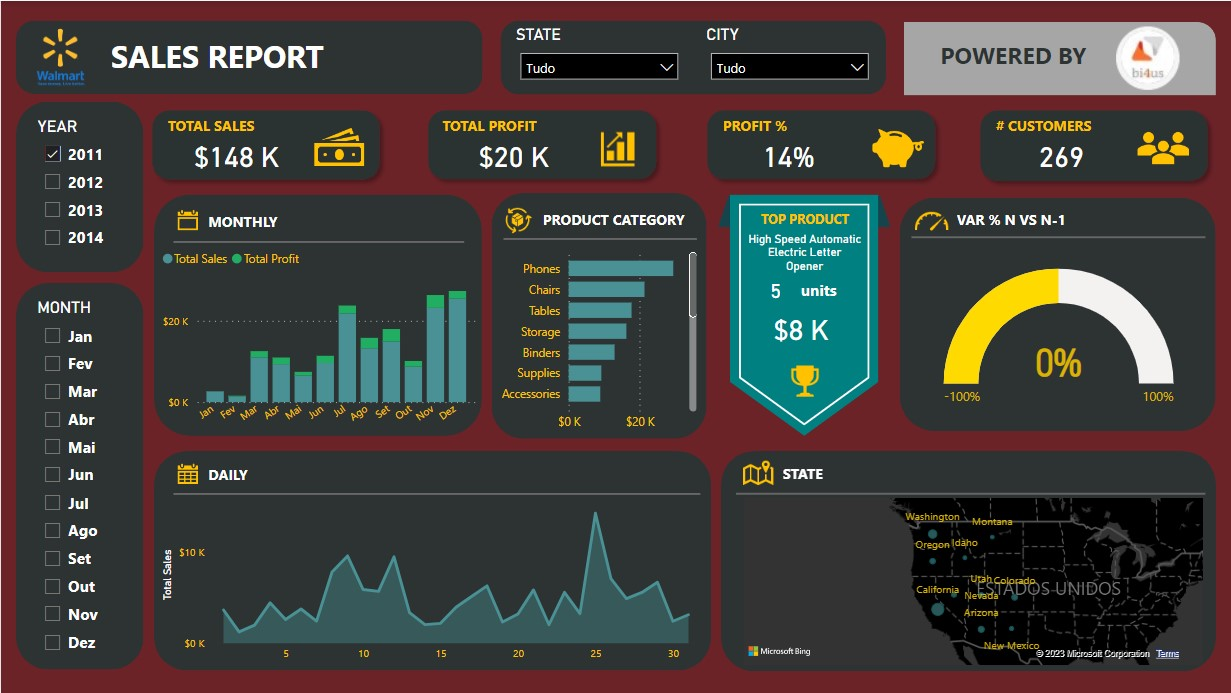

The page's visual inventory and layout, read from the dashboard file:
{"tool":"powerbi","page":{"name":"Sales Report","canvas":[1280,720],"ordinal":0},"visuals":[{"type":"shape","box":[511,199.6,224,256],"z":0},{"type":"shape","box":[746.9,203,179.6,32.4],"z":0,"group":"g4"},{"type":"group","id":"g1","title":"Grupo 4","box":[935.8,204.9,329.3,243.3],"z":0,"group":"g5"},{"type":"shape","box":[935.8,204.9,329.3,243.3],"z":0,"group":"g1"},{"type":"shape","box":[15.6,20.3,485.7,76.5],"z":1000,"group":"g7"},{"type":"shape","box":[939.5,21.8,324.9,76.5],"z":1000,"group":"g10"},{"type":"shape","box":[159.8,201.3,341.4,251.4],"z":1000},{"type":"shape","box":[759.4,201.5,154.6,251.5],"z":1000,"group":"g4"},{"type":"shape","box":[148.4,104.6,255,90.6],"z":2000,"group":"g9"},{"type":"shape","box":[768.8,210.8,135.9,231.1],"z":2000,"group":"g4"},{"type":"shape","box":[179.8,228.5,302.9,45.7],"z":2000},{"type":"shape","box":[520.5,20.3,401.4,77.1],"z":3000,"group":"g3"},{"type":"shape","box":[15.7,105,132.8,178],"z":3000,"group":"g6"},{"type":"shape","box":[436.3,105,255.6,90],"z":3000,"group":"g8"},{"type":"textbox","box":[745.4,212.3,184.3,38.6],"z":3000,"group":"g4"},{"type":"shape","box":[523.8,225.3,201.4,45.7],"z":3000},{"type":"card","fields":{"Values":["tbl_Medidas.Total Quantity"]},"box":[775.4,285.8,62.5,30.9],"z":4000,"group":"g4"},{"type":"shape","box":[159.8,468.4,580,228.6],"z":4000},{"type":"card","fields":{"Values":["Min(tbl_Orders.Product Name)"]},"box":[768.8,229.3,135.9,64.8],"z":5000,"group":"g4"},{"type":"shape","box":[179.8,489.9,548.6,45.7],"z":5000},{"type":"columnChart","fields":{"Category":["tbl_Calendario.Mês"],"Y":["tbl_Medidas.Total Sales","tbl_Medidas.Total Profit"]},"box":[162.1,247.9,336,200],"z":6000},{"type":"textbox","box":[828.2,284.3,64,34.4],"z":6000,"group":"g4"},{"type":"shape","box":[15,294.6,132.9,402.5],"z":6000,"group":"g6"},{"type":"image","box":[1155,17.5,76.5,84.3],"z":7000,"group":"g10"},{"type":"image","box":[170.1,207.9,48,40],"z":7000},{"type":"card","fields":{"Values":["tbl_Medidas.Total Sales"]},"box":[740.7,320.3,184.3,40.1],"z":7000,"group":"g4"},{"type":"shape","box":[725.5,105,255.6,90],"z":8000,"group":"g2"},{"type":"shape","box":[1011,105,255,91.9],"z":8000,"group":"g11"},{"type":"textbox","box":[210.1,213.9,216,32],"z":8000},{"type":"image","box":[812.5,360.4,50,69.4],"z":8000,"group":"g4"},{"type":"clusteredBarChart","fields":{"Y":["tbl_Medidas.Total Sales"],"Category":["tbl_Produto.Category"]},"box":[510.7,248.3,218.7,207.7],"z":9000},{"type":"textbox","box":[168.4,113.7,215.3,73.9],"z":10000,"group":"g9"},{"type":"image","box":[513,200.6,50,56],"z":10000},{"type":"card","fields":{"Values":["tbl_Medidas.Total Sales"]},"box":[169.8,131.2,148.9,57.8],"z":11000,"group":"g9"},{"type":"textbox","box":[559.1,212.4,167.1,32.8],"z":11000},{"type":"textbox","box":[455.3,114,215.8,73.4],"z":12000,"group":"g8"},{"type":"areaChart","fields":{"Category":["tbl_Calendario.Dia"],"Y":["tbl_Medidas.Total Sales"]},"box":[162.1,511.9,568,184],"z":12000},{"type":"image","box":[15.6,20.3,93,76.5],"z":13000,"group":"g7"},{"type":"card","fields":{"Values":["tbl_Medidas.Total Profit"]},"box":[457.8,131.6,151.8,57.8],"z":13000,"group":"g8"},{"type":"image","box":[170.1,471.9,48,40],"z":13000},{"type":"image","box":[318.3,117.2,66.8,71.7],"z":14000,"group":"g9"},{"type":"slicer","title":"YEAR","fields":{"Values":["tbl_Calendario.Ano"]},"box":[32.3,121.3,98.2,154.1],"z":14000,"group":"g6"},{"type":"textbox","box":[210.1,477.9,216,32],"z":14000},{"type":"group","id":"g2","title":"Grupo 1","box":[725.5,105,255.1,90.7],"z":15000},{"type":"image","box":[613.2,119.4,59.3,71.3],"z":15000,"group":"g8"},{"type":"slicer","title":"MONTH","fields":{"Values":["tbl_Calendario.Mês"]},"box":[32.3,310.1,88.6,394.8],"z":15000,"group":"g6"},{"type":"group","id":"g3","title":"Grupo 2","box":[520.5,20.3,401.4,77.1],"z":16000},{"type":"group","id":"g4","title":"Grupo 3","box":[740.7,201.5,189,251.5],"z":17000},{"type":"group","id":"g5","title":"Grupo 5","box":[935.8,204.9,329.3,243.3],"z":18000},{"type":"shape","box":[750.2,468.5,515.4,229.6],"z":19000},{"type":"textbox","box":[972.3,34.3,240.5,54.7],"z":20000,"group":"g10"},{"type":"map","title":"STATE","fields":{"Size":["Sum(tblf_Orders.Sales)"],"Category":["tbl_Local.State","tbl_Local.City"]},"box":[768,512,488,184],"z":20000},{"type":"shape","box":[765.8,490.4,488.9,45.3],"z":21000},{"type":"image","box":[743.7,467,90.6,48.4],"z":22000},{"type":"textbox","box":[809.5,476.4,215.5,32.8],"z":23000},{"type":"group","id":"g6","title":"Grupo 6","box":[15,105,133.4,599.8],"z":24000},{"type":"group","id":"g7","title":"Grupo 7","box":[15.6,20.3,485.7,76.5],"z":25000},{"type":"slicer","title":"STATE","fields":{"Values":["tbl_Local.State"]},"box":[531.2,25.3,184.3,67.2],"z":25000,"group":"g3"},{"type":"slicer","title":"CITY","fields":{"Values":["tbl_Local.City"]},"box":[729.5,25.3,184.3,67.2],"z":26000,"group":"g3"},{"type":"group","id":"g8","title":"Grupo 8","box":[436.3,105,255.1,90.7],"z":26000},{"type":"group","id":"g9","title":"Grupo 9","box":[148.4,104.6,255,90.6],"z":27000},{"type":"group","id":"g10","title":"Grupo 10","box":[939.5,17.5,324.9,84.3],"z":28000},{"type":"group","id":"g11","title":"Grupo 1","box":[1011,105,255.1,92.6],"z":29000},{"type":"image","box":[1154.7,117.2,111.5,71.8],"z":30000},{"type":"textbox","box":[108.6,30,380.8,54.2],"z":34000,"group":"g7"},{"type":"textbox","box":[746.4,114,214.4,73.2],"z":35000,"group":"g2"},{"type":"textbox","box":[1031.8,114.2,213.9,74.7],"z":35000,"group":"g11"},{"type":"card","fields":{"Values":["tbl_Medidas.Profit %"]},"box":[744.7,131.6,149.1,57.8],"z":36000,"group":"g2"},{"type":"card","fields":{"Values":["Count(tbl_Orders.Customer Name)"]},"box":[1030.2,132.1,148.8,59],"z":36000,"group":"g11"},{"type":"image","box":[893.7,117.5,76.6,71.3],"z":37000,"group":"g2"},{"type":"gauge","fields":{"Y":["tbl_Medidas.Var N vs N-1 %"]},"box":[948.3,273.2,305.7,157.6],"z":37000,"group":"g5"},{"type":"image","box":[939.2,205.2,60.9,48.4],"z":39000,"group":"g5"},{"type":"shape","box":[948.6,217.5,306.1,57.8],"z":39000,"group":"g1"},{"type":"textbox","box":[990.8,212.8,218.7,46.9],"z":40000,"group":"g5"}]}

Visuals, with their boxes in screenshot pixels (x1, y1, x2, y2), scaled from the page's 1280x720 canvas onto the 1231x693 screenshot:
shape: locate(491, 192, 707, 439)
shape: locate(718, 195, 891, 227)
"Grupo 4" group: locate(900, 197, 1217, 431)
shape: locate(900, 197, 1217, 431)
shape: locate(15, 20, 482, 93)
shape: locate(904, 21, 1216, 95)
shape: locate(154, 194, 482, 436)
shape: locate(730, 194, 879, 436)
shape: locate(143, 101, 388, 188)
shape: locate(739, 203, 870, 425)
shape: locate(173, 220, 464, 264)
shape: locate(501, 20, 887, 94)
shape: locate(15, 101, 143, 272)
shape: locate(420, 101, 665, 188)
textbox: locate(717, 204, 894, 241)
shape: locate(504, 217, 697, 261)
card - tbl_Medidas.Total Quantity: locate(746, 275, 806, 305)
shape: locate(154, 451, 711, 671)
card - Min(tbl_Orders.Product Name): locate(739, 221, 870, 283)
shape: locate(173, 472, 701, 516)
columnChart - tbl_Calendario.Mês x tbl_Medidas.Total Sales: locate(156, 239, 479, 431)
textbox: locate(796, 274, 858, 307)
shape: locate(14, 284, 142, 671)
image: locate(1111, 17, 1184, 98)
image: locate(164, 200, 210, 239)
card - tbl_Medidas.Total Sales: locate(712, 308, 890, 347)
shape: locate(698, 101, 944, 188)
shape: locate(972, 101, 1218, 190)
textbox: locate(202, 206, 410, 237)
image: locate(781, 347, 829, 414)
clusteredBarChart - tbl_Medidas.Total Sales x tbl_Produto.Category: locate(491, 239, 701, 439)
textbox: locate(162, 109, 369, 181)
image: locate(493, 193, 541, 247)
card - tbl_Medidas.Total Sales: locate(163, 126, 306, 182)
textbox: locate(538, 204, 698, 236)
textbox: locate(438, 110, 645, 180)
areaChart - tbl_Calendario.Dia x tbl_Medidas.Total Sales: locate(156, 493, 702, 670)
image: locate(15, 20, 104, 93)
card - tbl_Medidas.Total Profit: locate(440, 127, 586, 182)
image: locate(164, 454, 210, 493)
image: locate(306, 113, 370, 182)
"YEAR" slicer: locate(31, 117, 126, 265)
textbox: locate(202, 460, 410, 491)
"Grupo 1" group: locate(698, 101, 943, 188)
image: locate(590, 115, 647, 184)
"MONTH" slicer: locate(31, 298, 116, 678)
"Grupo 2" group: locate(501, 20, 887, 94)
"Grupo 3" group: locate(712, 194, 894, 436)
"Grupo 5" group: locate(900, 197, 1217, 431)
shape: locate(721, 451, 1217, 672)
textbox: locate(935, 33, 1166, 86)
"STATE" map: locate(739, 493, 1208, 670)
shape: locate(736, 472, 1207, 516)
image: locate(715, 449, 802, 496)
textbox: locate(779, 459, 986, 490)
"Grupo 6" group: locate(14, 101, 143, 678)
"Grupo 7" group: locate(15, 20, 482, 93)
"STATE" slicer: locate(511, 24, 688, 89)
"CITY" slicer: locate(702, 24, 879, 89)
"Grupo 8" group: locate(420, 101, 665, 188)
"Grupo 9" group: locate(143, 101, 388, 188)
"Grupo 10" group: locate(904, 17, 1216, 98)
"Grupo 1" group: locate(972, 101, 1218, 190)
image: locate(1110, 113, 1218, 182)
textbox: locate(104, 29, 471, 81)
textbox: locate(718, 110, 924, 180)
textbox: locate(992, 110, 1198, 182)
card - tbl_Medidas.Profit %: locate(716, 127, 860, 182)
card - Count(tbl_Orders.Customer Name): locate(991, 127, 1134, 184)
image: locate(859, 113, 933, 182)
gauge - tbl_Medidas.Var N vs N-1 %: locate(912, 263, 1206, 415)
image: locate(903, 198, 962, 244)
shape: locate(912, 209, 1207, 265)
textbox: locate(953, 205, 1163, 250)
